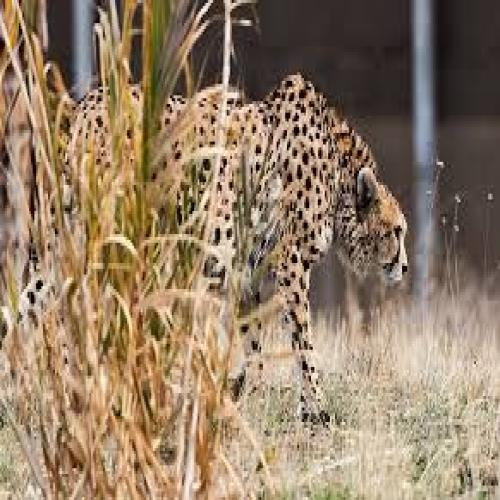cheetah-endangered: (152, 77, 414, 432), (48, 70, 247, 157)
